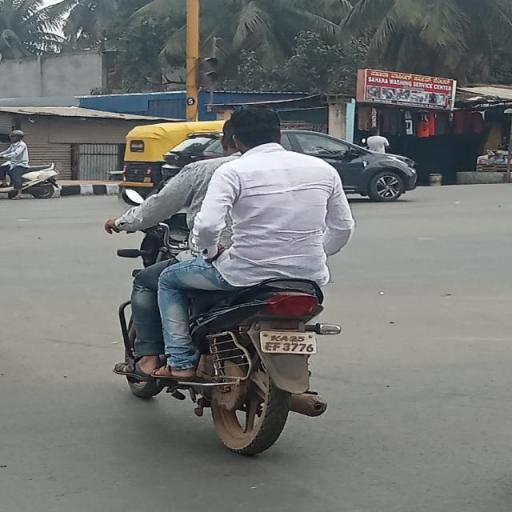bike: (104, 97, 386, 463)
numberplate: (262, 328, 318, 356)
withouthelmet: (229, 110, 283, 149)
